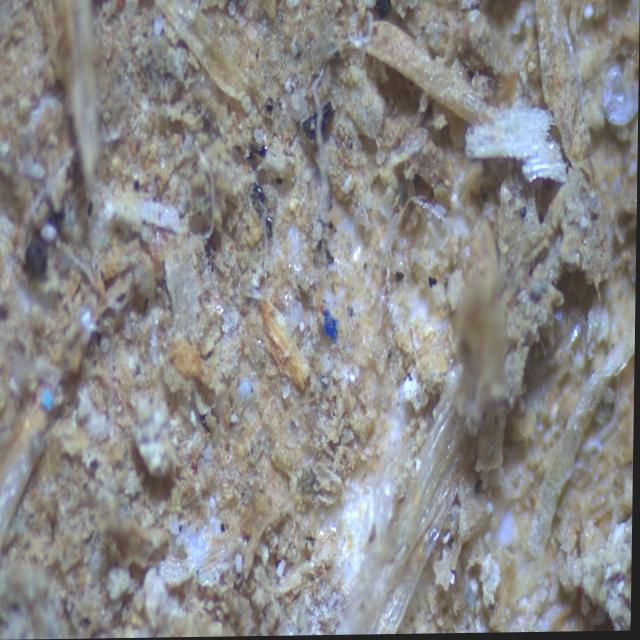microplastic: (326, 313, 338, 345), (43, 386, 55, 411)
